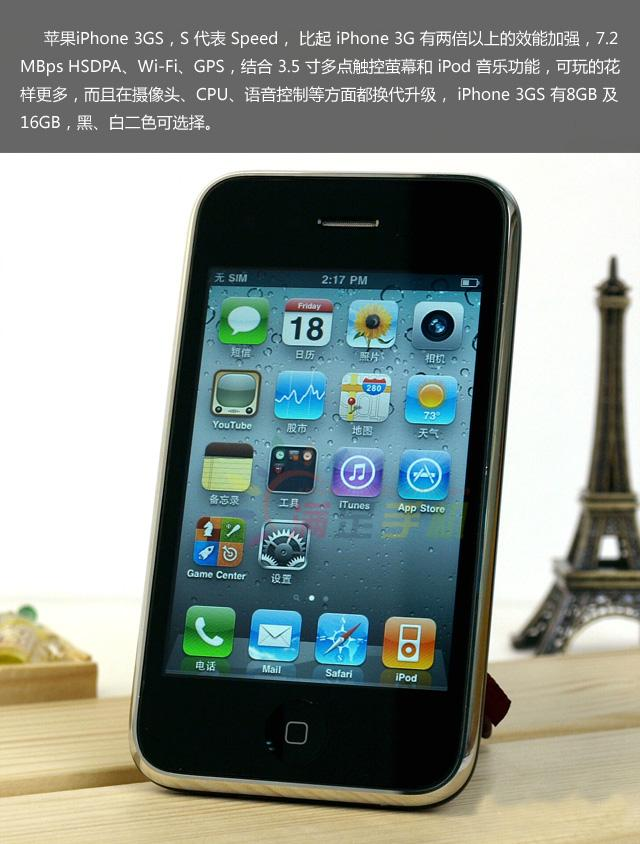phone: (153, 176, 506, 799)
